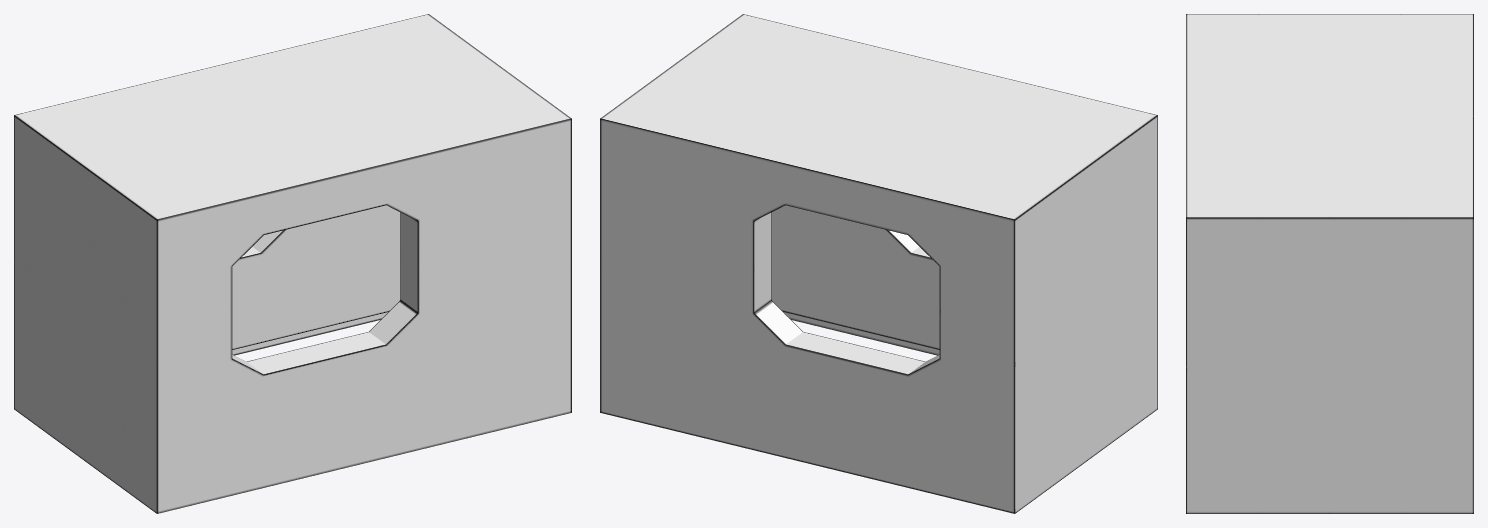
The model's file is CabinillaTaduralacosa2.fbx.
The picture shows the model from 3 angles, left to right: view 1: azimuth 30°, elevation 25°; view 2: azimuth 150°, elevation 25°; view 3: azimuth 270°, elevation 25°; orthographic projection.
Parts seen in each view (by area): view 1: Cube.001; view 2: Cube.001; view 3: Cube.001.
Part boxes in pixels (bbox=[...]): Cube.001: bbox=[14, 14, 571, 513]; Cube.001: bbox=[600, 14, 1157, 513]; Cube.001: bbox=[1186, 14, 1473, 513].
Bounding box in the file's own units: 1228 × 832 × 733.
